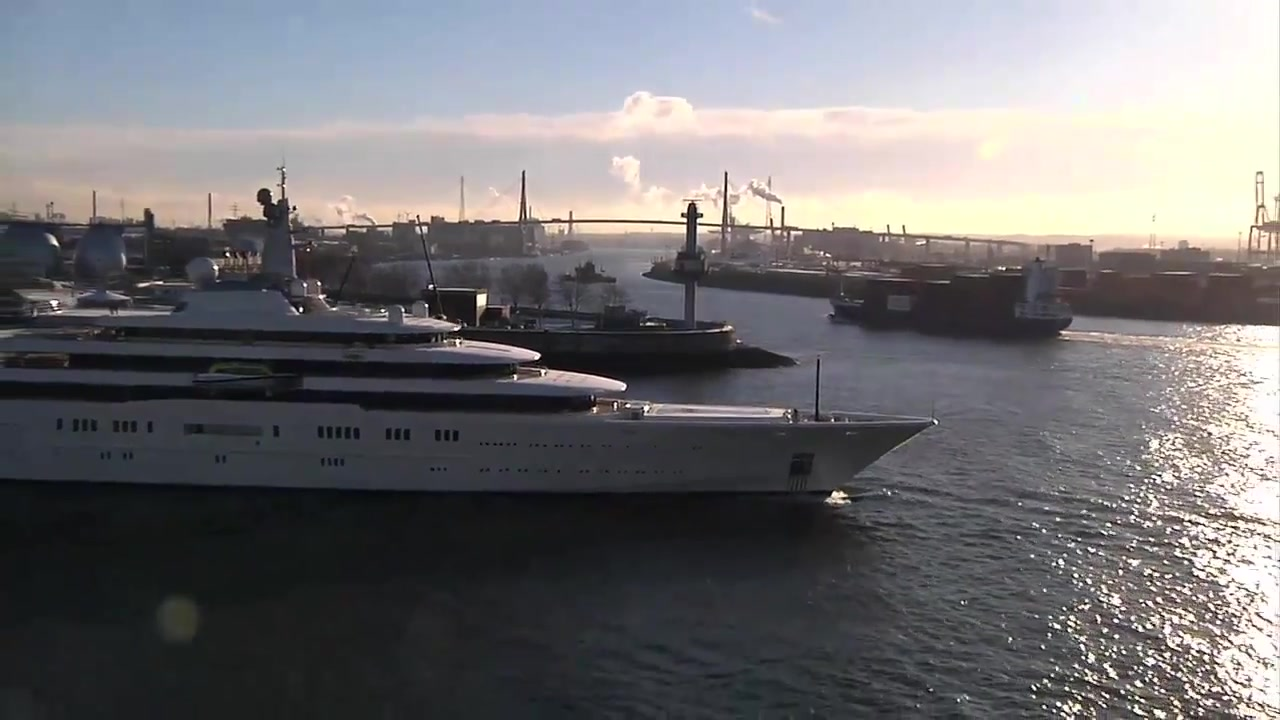boat: (1, 154, 940, 508)
